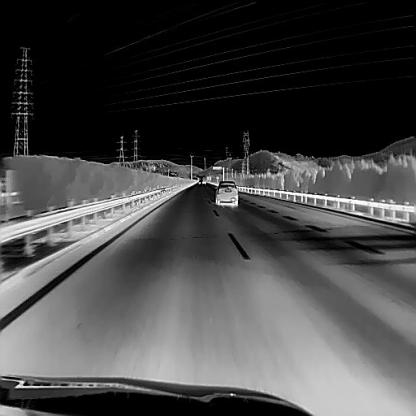car: (214, 180, 237, 205)
